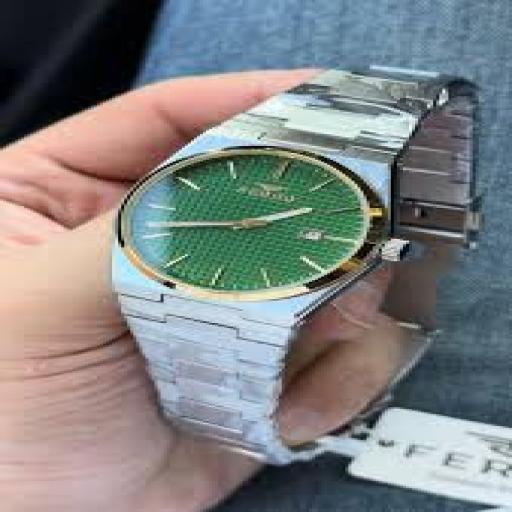KolSaati: (47, 31, 492, 465)
